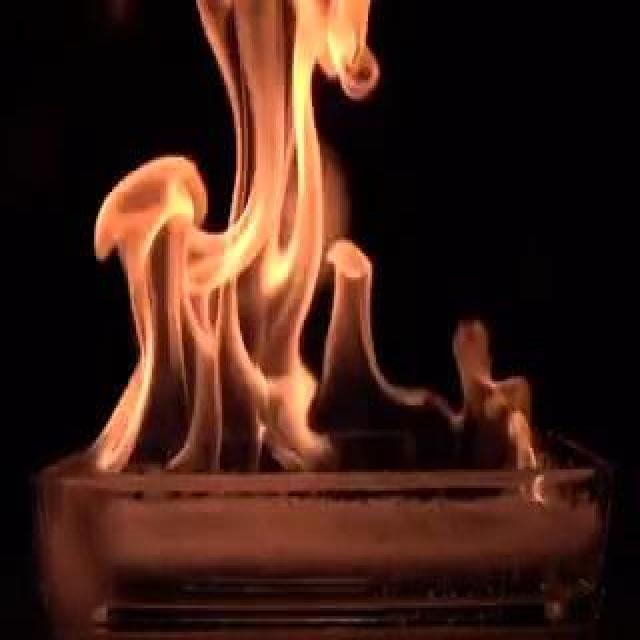Fire: (114, 3, 536, 469)
